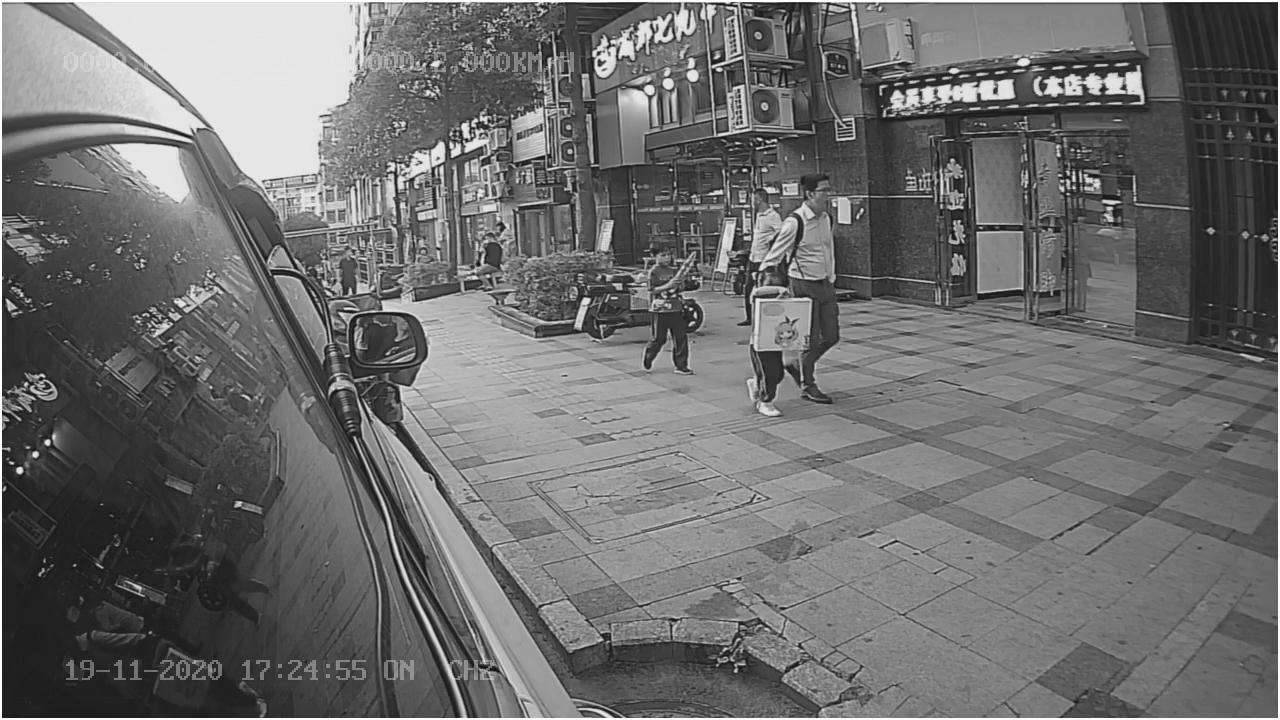person: (780, 170, 844, 288)
